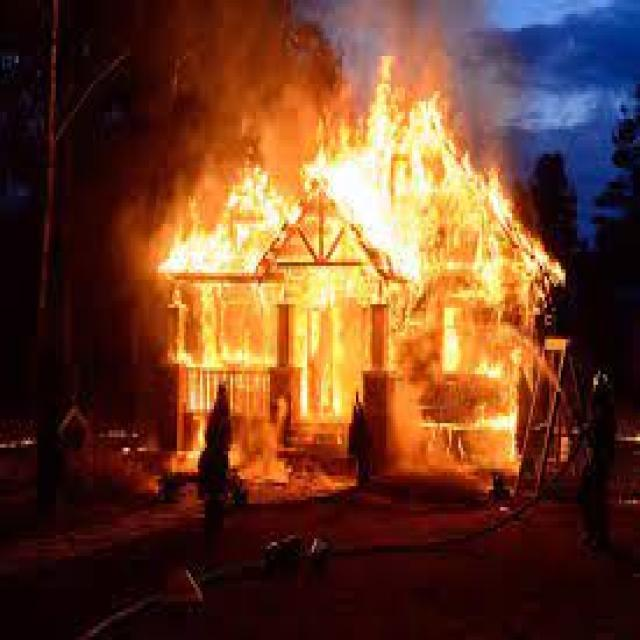Fire: (351, 64, 524, 398), (165, 191, 368, 377)
Smoke: (84, 15, 503, 138)
